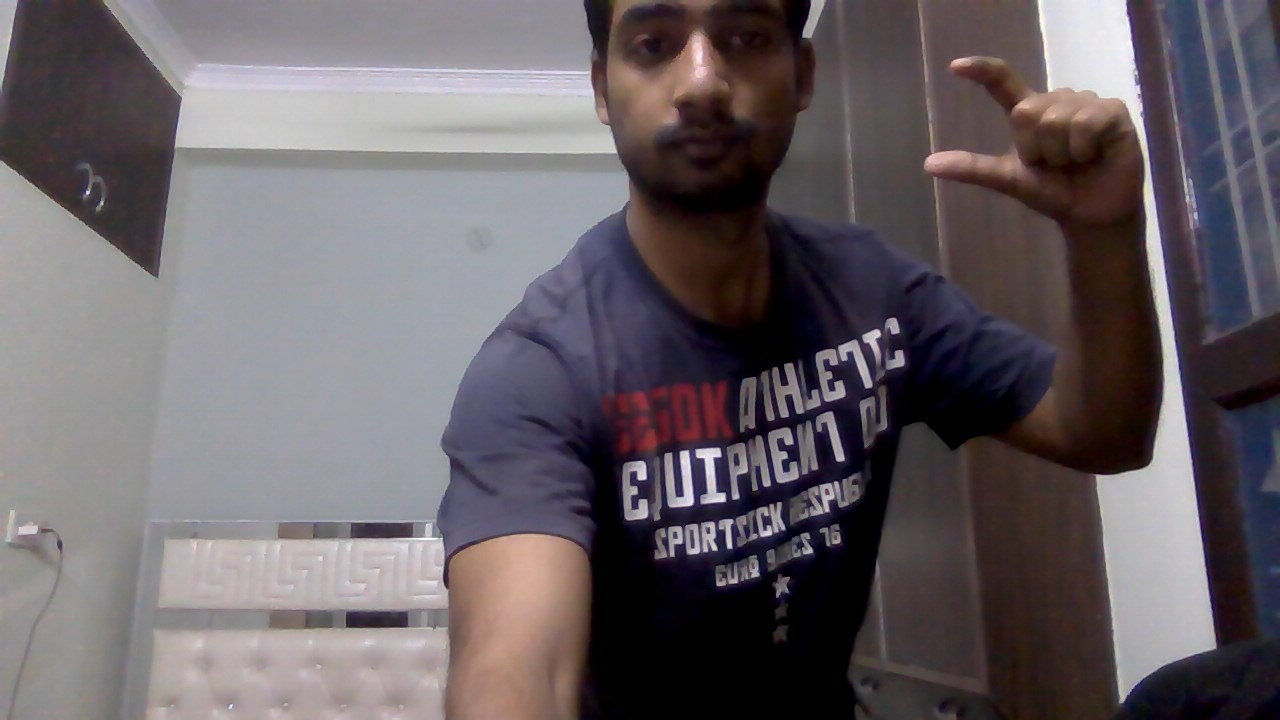Paste: (914, 47, 1178, 247)
